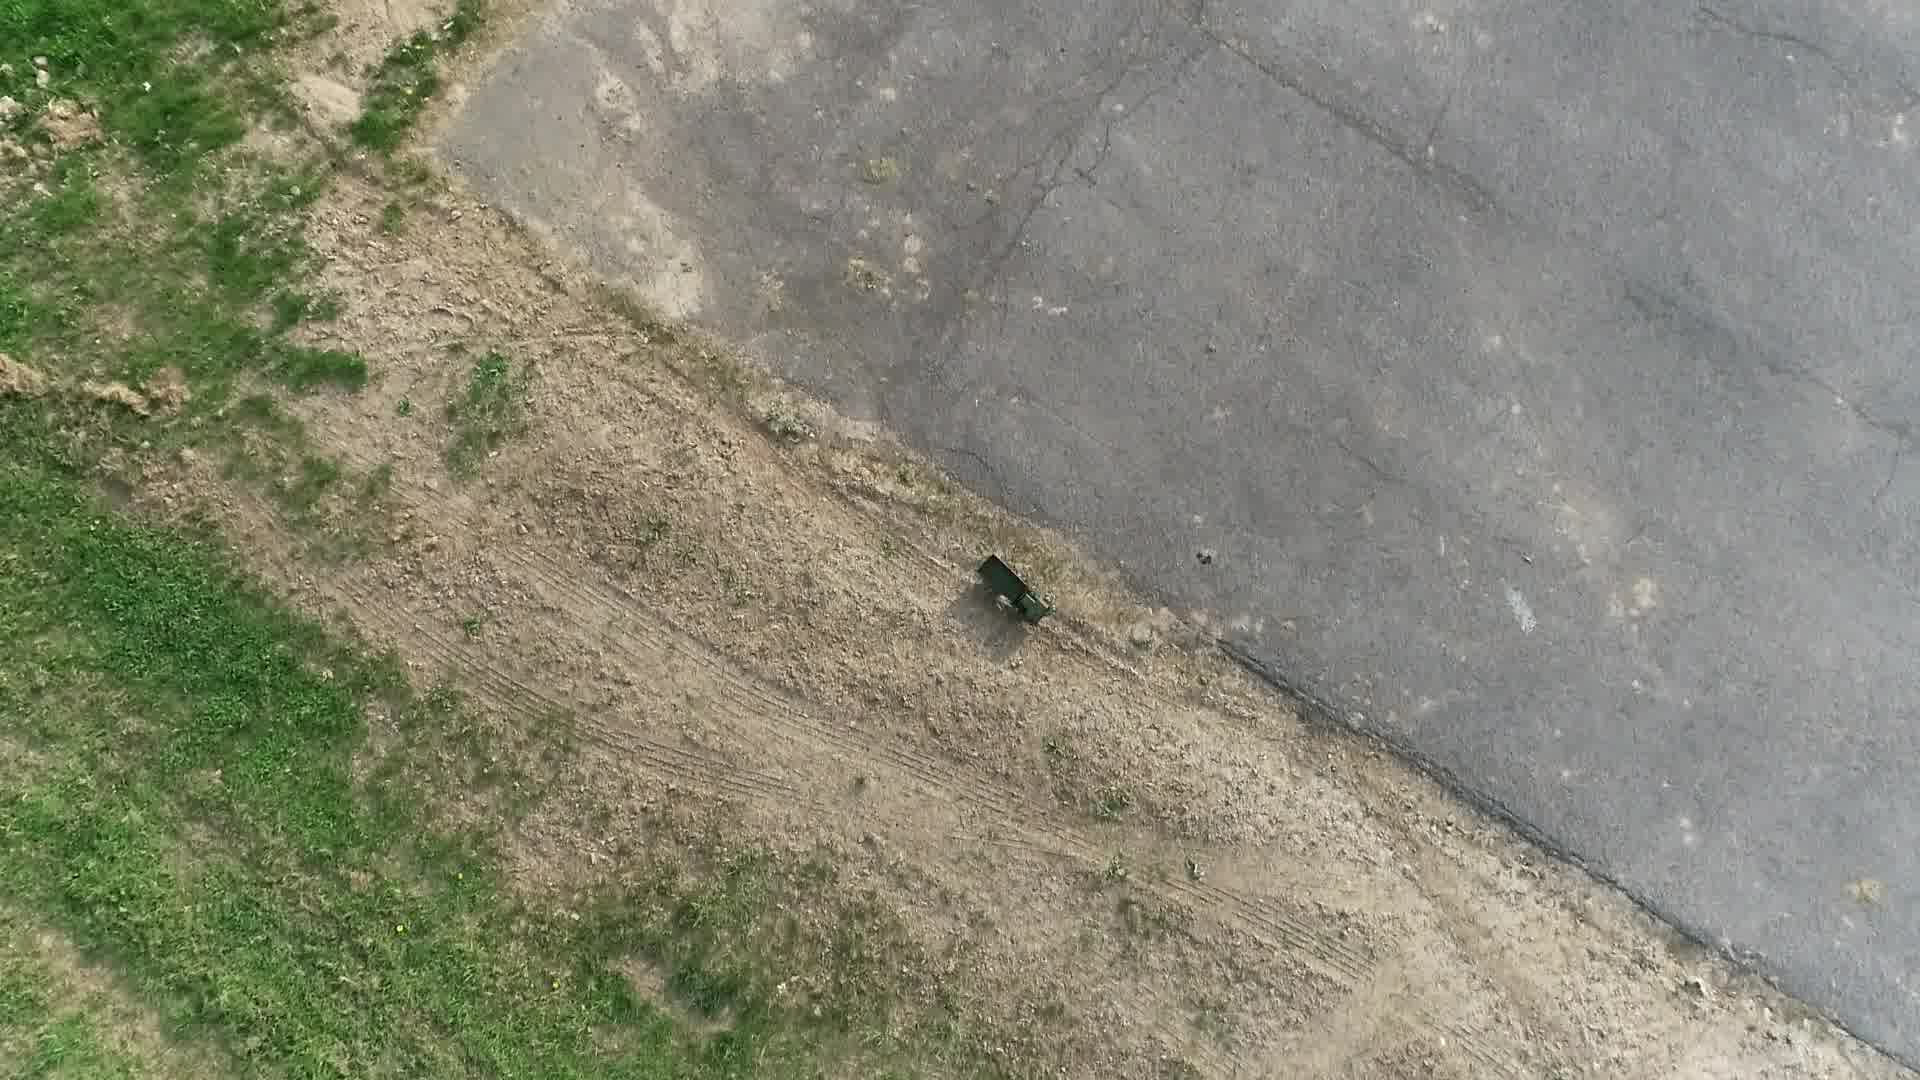transporter9: (975, 551, 1054, 632)
